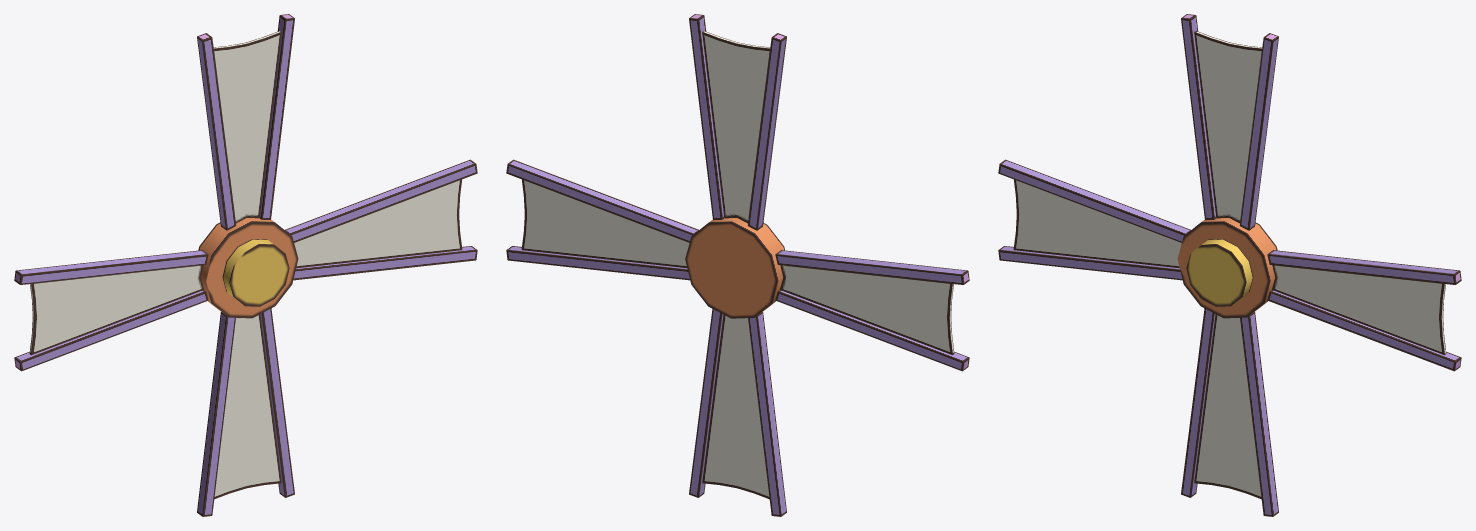
Rendered from Wind_Turbine_2.fbx.
The picture shows the model from 3 angles, left to right: view 1: azimuth 30°, elevation 25°; view 2: azimuth 150°, elevation 25°; view 3: azimuth 330°, elevation 25°; orthographic projection.
Parts seen in each view (by area): view 1: Wind_Turbine_2; view 2: Wind_Turbine_2; view 3: Wind_Turbine_2.
Boxes of the visible parts, <box> form: Wind_Turbine_2: <box>14,14,477,516</box>; Wind_Turbine_2: <box>506,14,969,516</box>; Wind_Turbine_2: <box>998,14,1461,516</box>.
Size of the model in its own units: 6.54 by 6.54 by 0.5086.
1 material, 1 textured.
